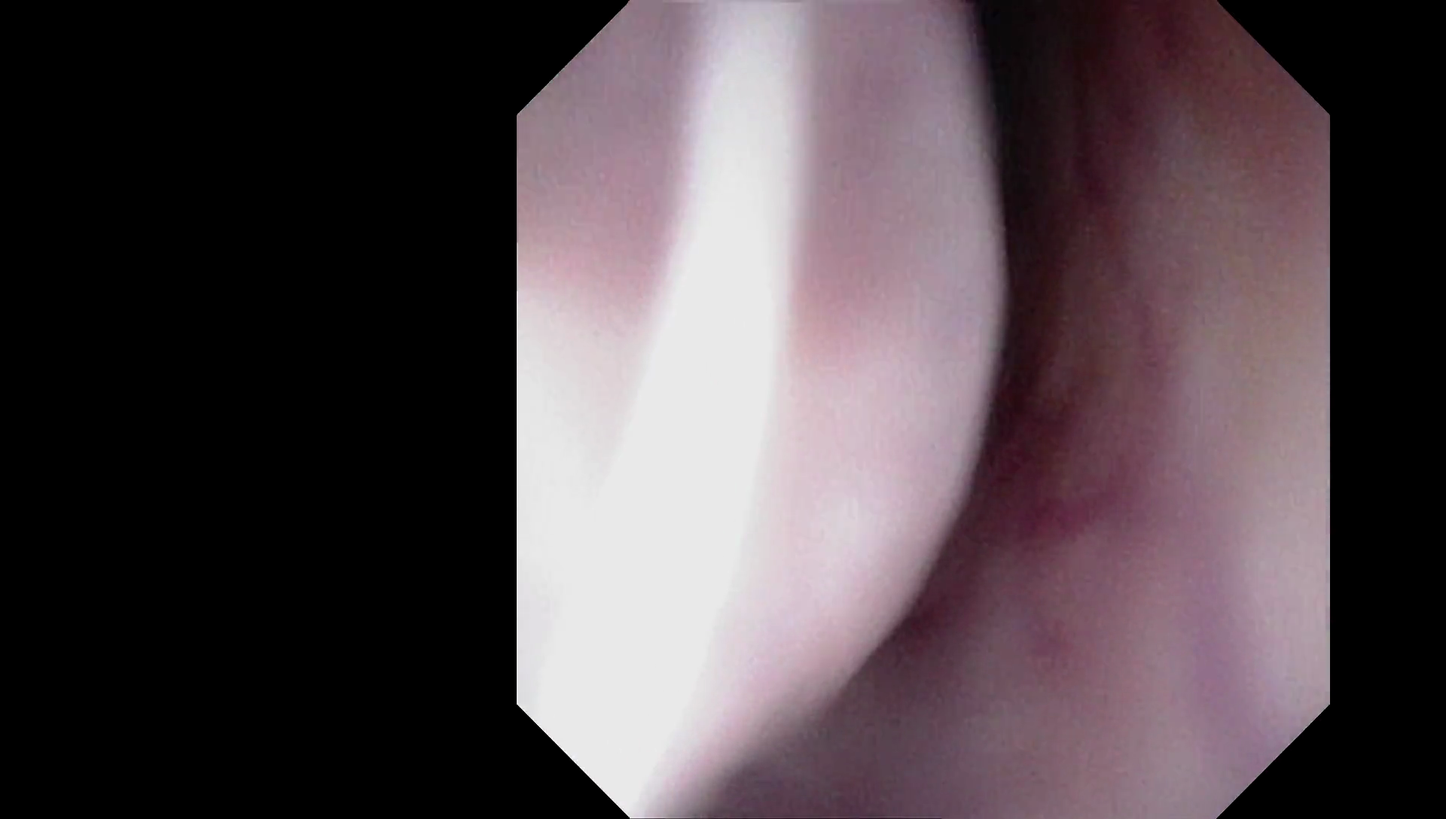close_wall: (524, 77, 958, 708), (1159, 334, 1323, 698)
next: (912, 0, 1138, 459)
